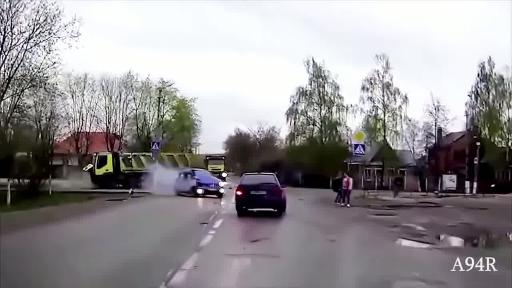Accident: (93, 150, 225, 204)
Accident-fire-smoke: (174, 164, 224, 198)
CAR: (231, 166, 295, 218)
